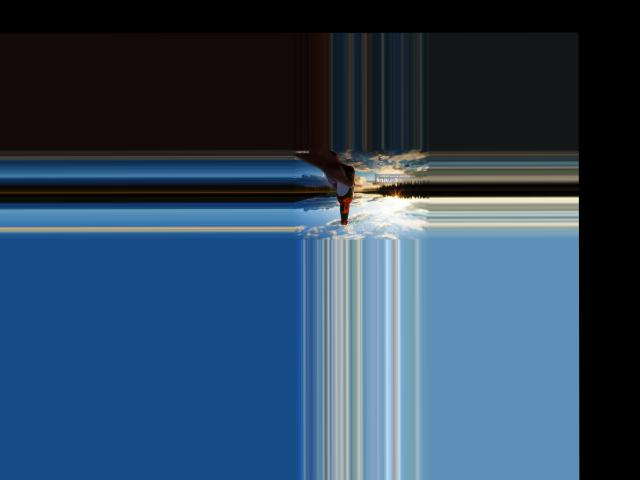beer: (336, 168, 355, 225)
